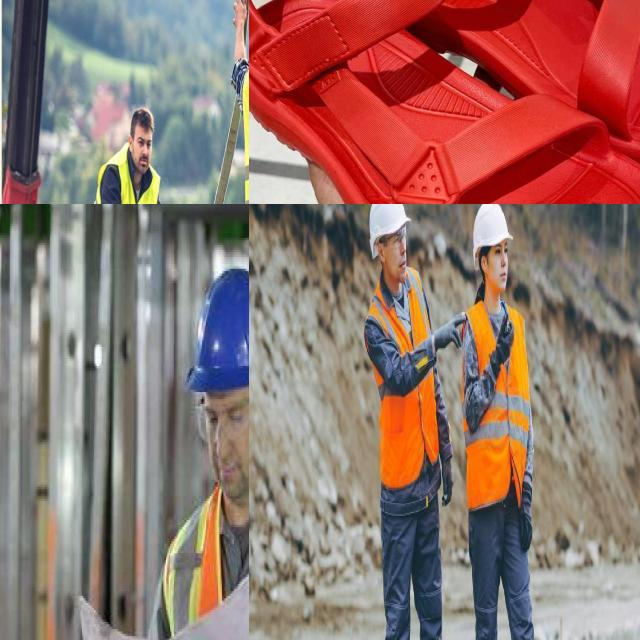No_Ear-Protection: (377, 240, 386, 266), (480, 251, 488, 277), (127, 133, 134, 153)
No_Glasses: (492, 242, 510, 261), (135, 132, 153, 150)
Sandals: (249, 0, 640, 204)
face_nomask: (198, 399, 249, 498), (381, 229, 412, 291), (484, 241, 511, 293), (133, 126, 155, 172)
glasses: (386, 221, 409, 254)
hand_glove: (487, 324, 520, 374), (434, 442, 457, 506), (515, 486, 537, 550), (434, 316, 466, 351)
head_helmet: (182, 275, 249, 401), (471, 204, 512, 263), (366, 204, 411, 255)
person: (76, 266, 249, 640), (359, 204, 458, 640), (462, 204, 545, 640), (81, 109, 162, 204)
vest: (367, 264, 440, 490), (464, 301, 534, 509), (160, 487, 249, 640), (79, 148, 161, 204)
